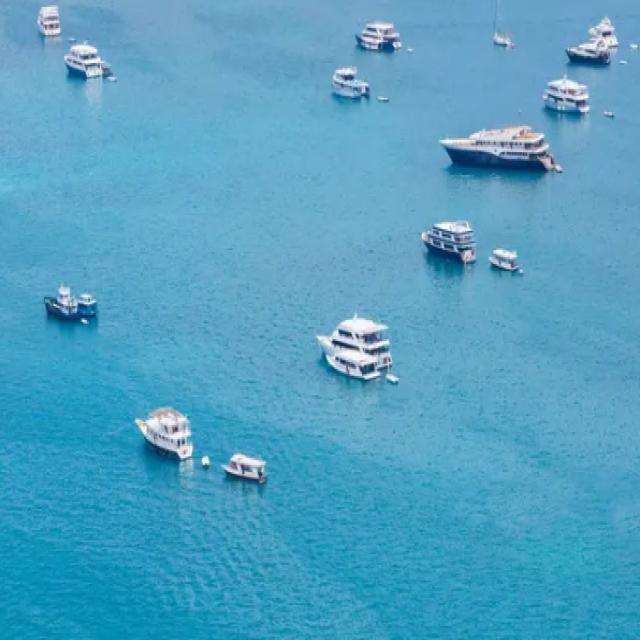houseboat: (317, 310, 395, 381), (440, 120, 550, 164), (132, 403, 194, 464), (421, 212, 476, 260), (542, 70, 590, 117), (219, 448, 269, 486), (64, 36, 100, 82), (44, 277, 78, 321), (354, 20, 400, 51), (331, 66, 368, 100), (566, 36, 611, 62), (32, 2, 62, 37), (590, 12, 619, 46), (489, 246, 522, 273), (75, 286, 96, 323)
